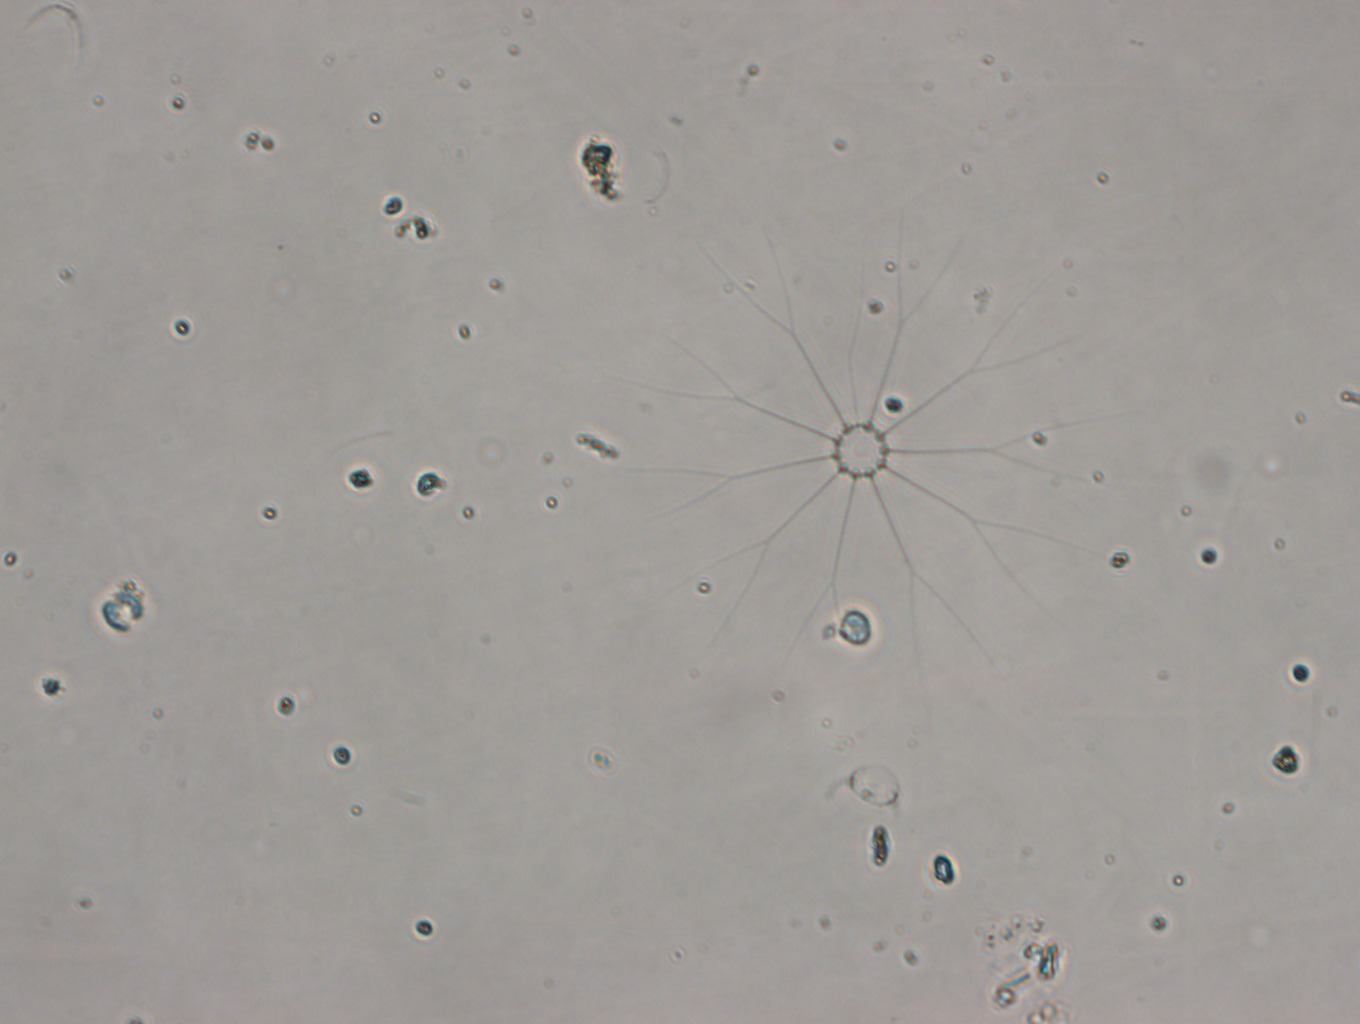bacteriastrum: (624, 212, 1108, 677)
